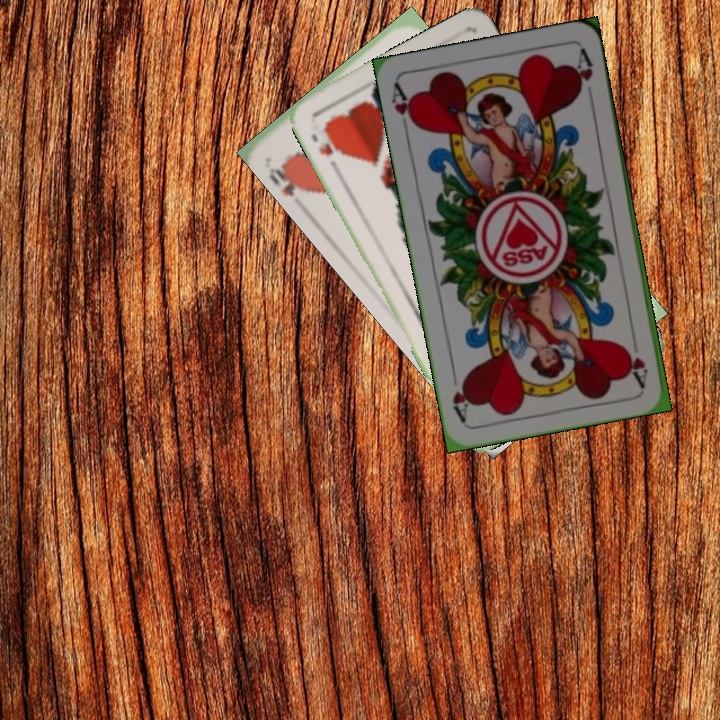HA: (387, 80, 420, 139), (624, 330, 651, 389)
HO: (265, 159, 313, 200), (307, 119, 342, 174)
